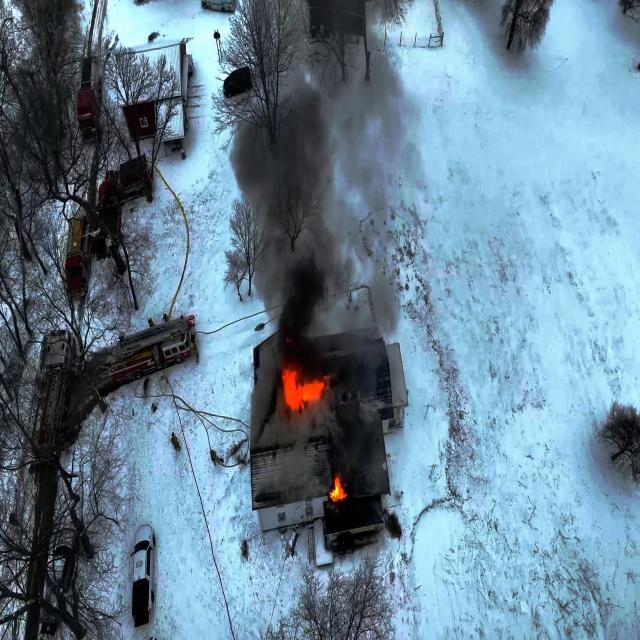Fire: (277, 353, 331, 406), (329, 476, 348, 514)
Smoke: (229, 0, 405, 347)
